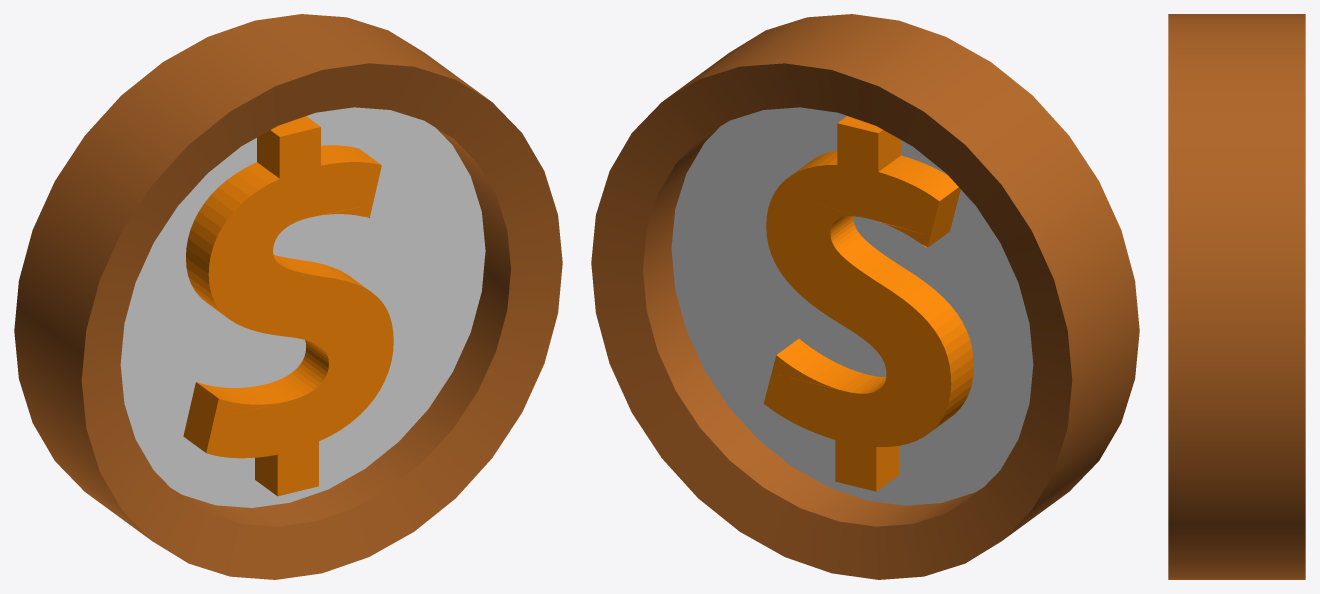
The model's file is Koinbaru.fbx.
The picture shows the model from 3 angles, left to right: view 1: azimuth 30°, elevation 25°; view 2: azimuth 150°, elevation 25°; view 3: azimuth 270°, elevation 25°; orthographic projection.
Visible parts, largest first — view 1: Cylinder, Curve; view 2: Cylinder, Curve.001; view 3: Cylinder.
Boxes of the visible parts, box(x1,y1,x2,y2) form: Cylinder: box(14, 14, 562, 579); Curve: box(183, 116, 393, 496); Cylinder: box(591, 14, 1139, 579); Curve.001: box(763, 116, 973, 491); Cylinder: box(1168, 14, 1305, 579).
Size of the model in its own units: 200 by 200 by 48.56.
